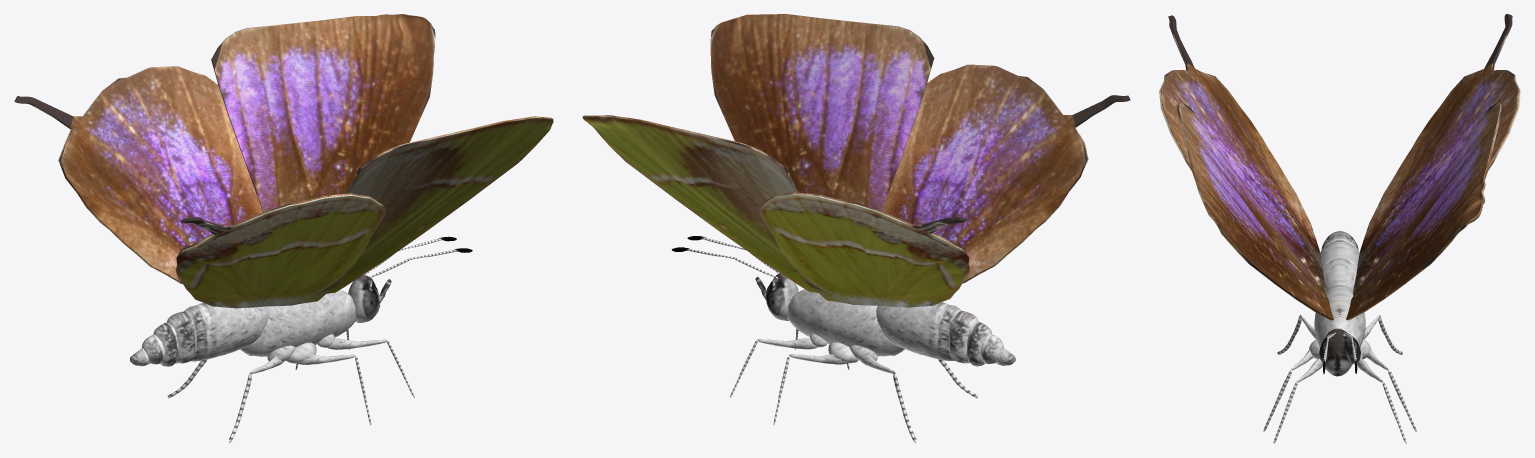
File: Silverstreak FINAL.obj
3 views of the same model, side by side, from view 1: azimuth 30°, elevation 25°; view 2: azimuth 150°, elevation 25°; view 3: azimuth 270°, elevation 25° (orthographic).
Visible parts, largest first — view 1: mmGroup0; view 2: mmGroup0; view 3: mmGroup0.
Part boxes in pixels (box(x1,y1,x2,y2)): mmGroup0: box(14, 14, 553, 443); mmGroup0: box(582, 14, 1130, 443); mmGroup0: box(1159, 14, 1520, 443).
Size of the model in its own units: 1.39 by 1.04 by 1.07.
Materials: 1 (1 with a texture image).
